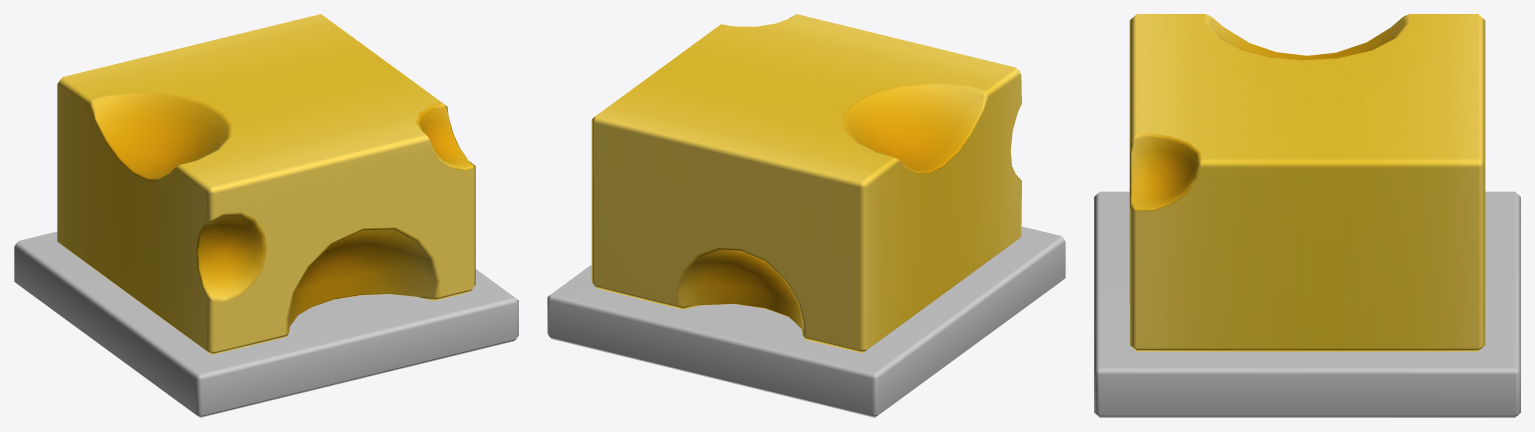
Rendered from mod_sc_roma_001_sculpture_003.fbx.
3 views of the same model, side by side, from view 1: azimuth 30°, elevation 25°; view 2: azimuth 150°, elevation 25°; view 3: azimuth 270°, elevation 25° (orthographic). The views are drawn at different scales.
Parts seen in each view (by area): view 1: mod_sc_roma_001_sculpture_003; view 2: mod_sc_roma_001_sculpture_003; view 3: mod_sc_roma_001_sculpture_003.
Part boxes in pixels (<box>): mod_sc_roma_001_sculpture_003: <box>14,14,518,417</box>; mod_sc_roma_001_sculpture_003: <box>547,14,1065,417</box>; mod_sc_roma_001_sculpture_003: <box>1094,14,1520,417</box>.
Size of what is drawn, in the model's own units: 600 by 379 by 600.
